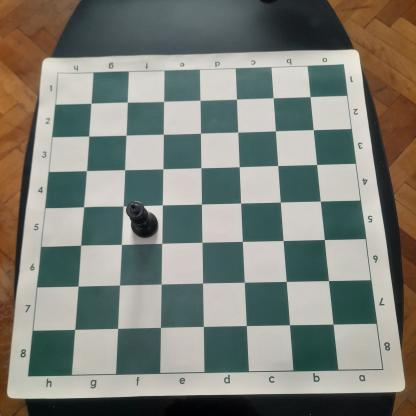black-king: (125, 199, 159, 238)
